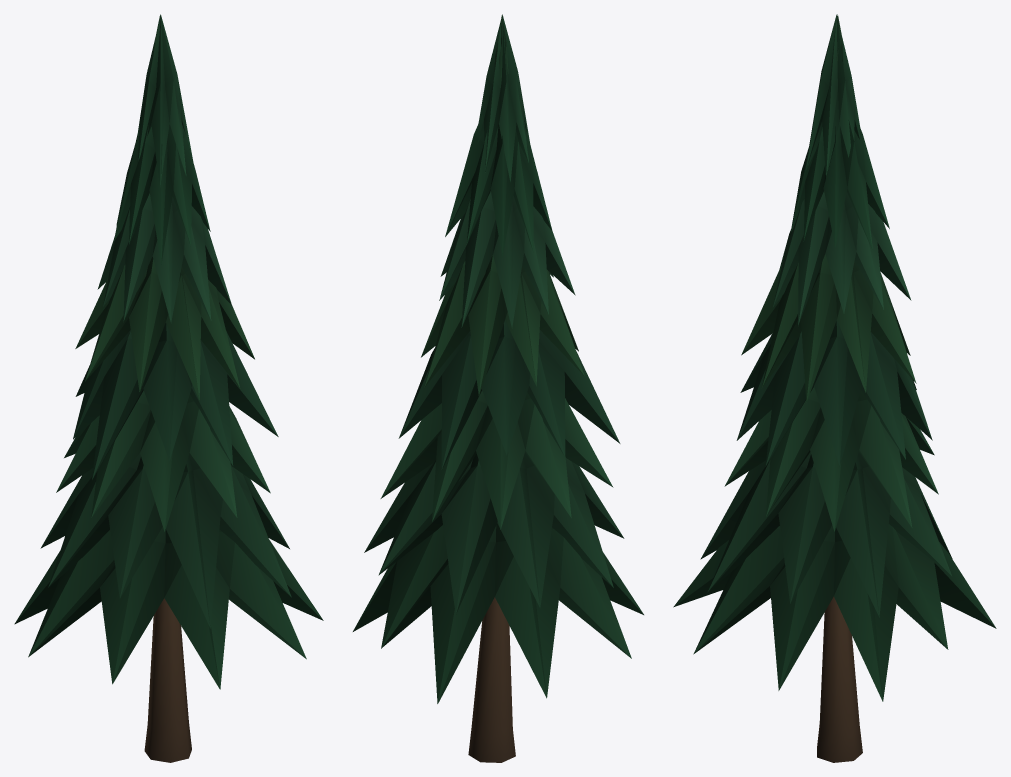
File: spruce_b.glb
The picture shows the model from 3 angles, left to right: view 1: azimuth 30°, elevation 25°; view 2: azimuth 150°, elevation 25°; view 3: azimuth 270°, elevation 25°; orthographic projection.
Visible parts, largest first — view 1: spruce_b; view 2: spruce_b; view 3: spruce_b.
Part boxes in pixels (x1=…): spruce_b: x1=14, y1=14, x2=323, y2=762; spruce_b: x1=353, y1=14, x2=643, y2=762; spruce_b: x1=673, y1=14, x2=996, y2=762.
Size of the model in its own units: 4.08 by 10.9 by 4.35.
